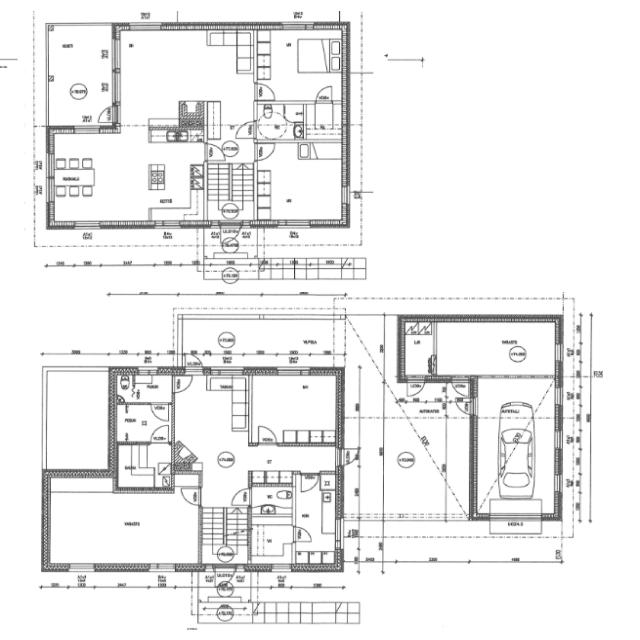door: (113, 403, 173, 443), (254, 424, 280, 446), (252, 81, 278, 102), (148, 400, 172, 422), (229, 486, 252, 508), (202, 141, 225, 163), (182, 353, 205, 375), (253, 141, 277, 162), (179, 486, 203, 507), (290, 524, 314, 545), (298, 472, 320, 494), (404, 376, 426, 398), (312, 83, 335, 104), (449, 377, 472, 398), (219, 222, 242, 243), (148, 424, 172, 444), (335, 447, 359, 467), (171, 374, 194, 394), (234, 122, 256, 140), (454, 398, 476, 416), (96, 105, 117, 123)
window: (486, 511, 544, 527), (146, 565, 179, 582), (109, 34, 122, 76), (109, 68, 123, 104), (208, 366, 248, 378), (274, 218, 314, 230), (274, 367, 314, 378), (69, 124, 105, 136), (144, 580, 180, 592), (278, 20, 317, 31), (125, 21, 164, 32), (428, 319, 439, 358), (333, 518, 345, 553), (145, 562, 177, 574), (66, 562, 97, 574), (152, 219, 184, 230), (551, 426, 564, 452), (551, 383, 564, 409), (72, 220, 102, 231), (552, 340, 564, 366), (91, 582, 120, 592), (339, 182, 351, 206), (551, 472, 564, 494), (44, 175, 54, 203), (268, 563, 294, 573), (44, 151, 54, 177), (135, 366, 158, 375)
zone: (47, 474, 200, 571), (48, 127, 204, 222), (113, 28, 253, 126), (476, 374, 559, 517), (253, 140, 348, 226), (171, 374, 250, 468), (46, 23, 115, 129), (431, 321, 561, 377), (254, 28, 345, 102), (250, 374, 340, 446), (292, 472, 340, 567), (115, 443, 172, 491), (120, 402, 171, 445), (398, 320, 434, 379), (249, 520, 295, 566), (254, 102, 305, 142), (112, 372, 174, 404), (249, 482, 294, 520), (303, 101, 347, 139), (174, 468, 201, 488)
